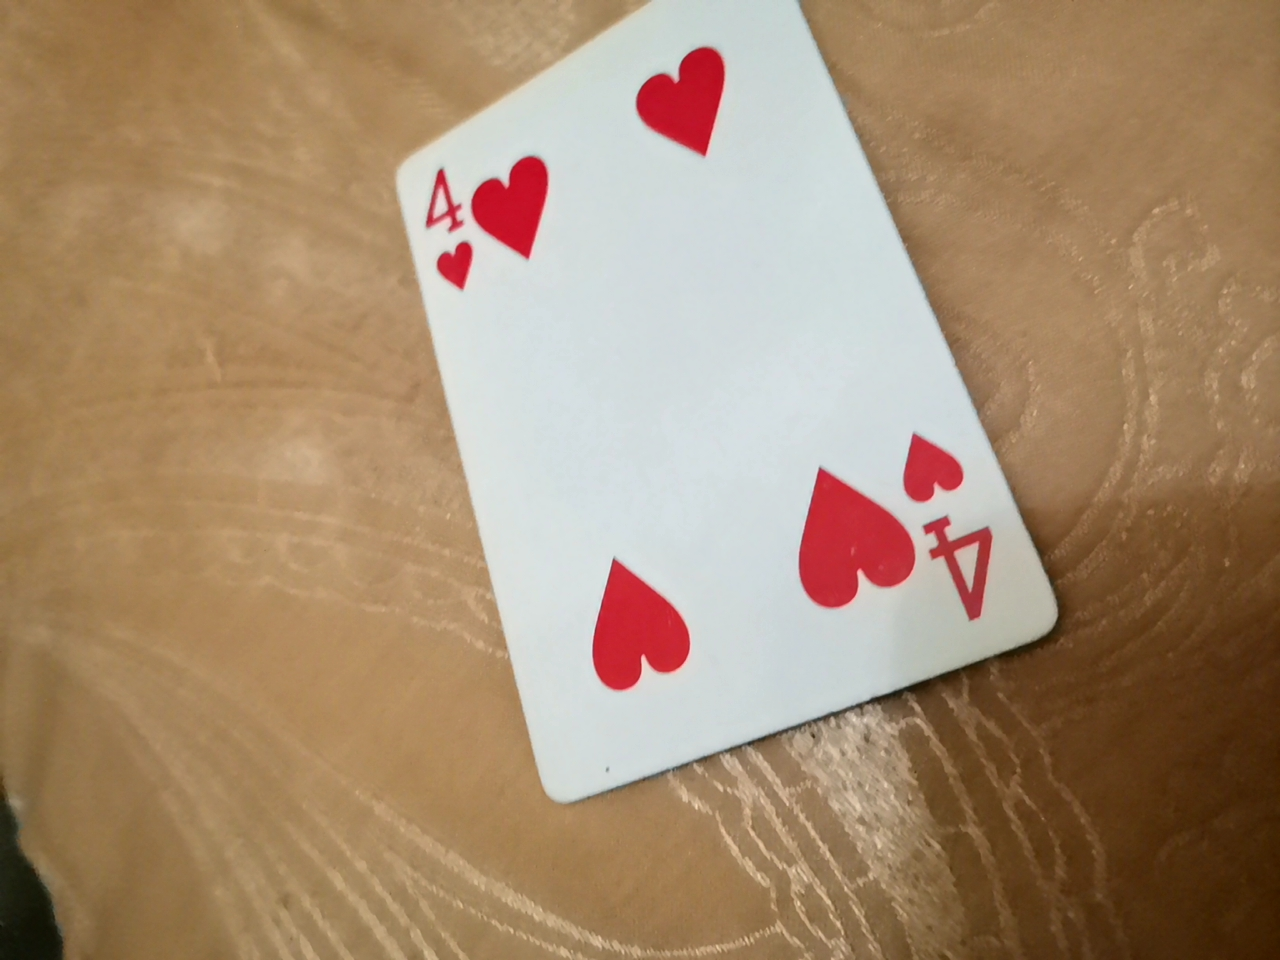hx 4: (353, 6, 1049, 815)
